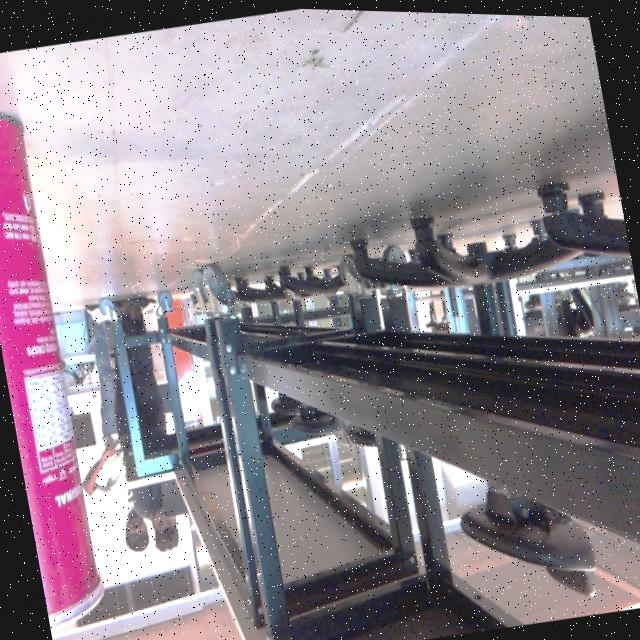redpringles: (0, 85, 129, 640)
